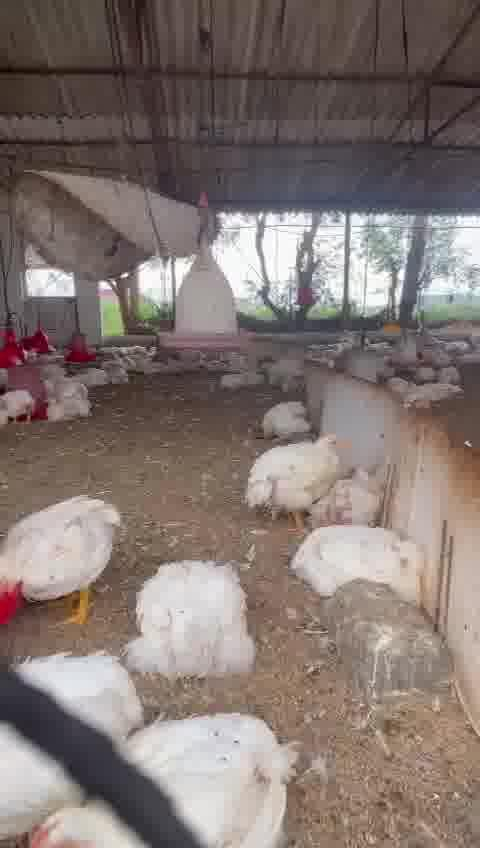AbNormal: (283, 525, 417, 589)
Normal: (0, 492, 122, 629), (244, 429, 357, 529)
